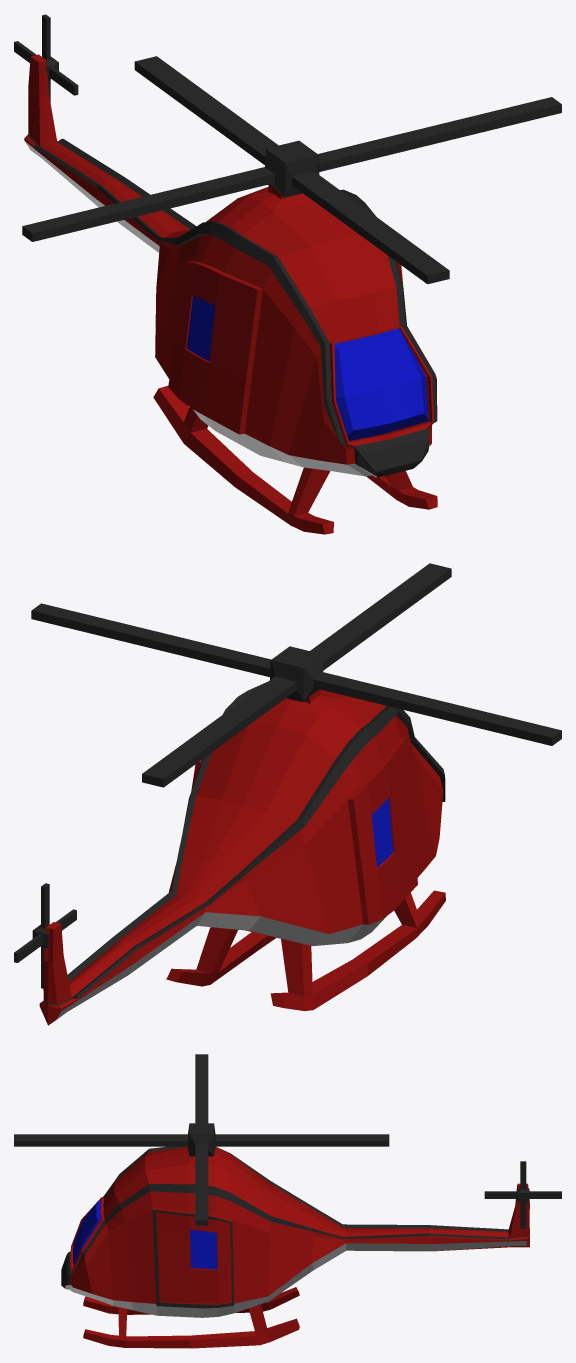
The model's file is Helico01.obj.
The picture shows the model from 3 angles, top to bottom: view 1: azimuth 30°, elevation 25°; view 2: azimuth 150°, elevation 25°; view 3: azimuth 270°, elevation 25°; orthographic projection. The views are drawn at different scales.
Visible parts, largest first — view 1: Helico_Cube, Helice_Cube.003, Portes_Cube.005, Helice.001_Cube.004; view 2: Helico_Cube, Helice_Cube.003, Portes_Cube.005, Helice.001_Cube.004; view 3: Helico_Cube, Portes_Cube.005, Helice_Cube.003, Helice.001_Cube.004.
Boxes of the visible parts, x1,y1,x2,y2 form: Helico_Cube: (24, 54, 437, 534); Helice_Cube.003: (22, 56, 561, 284); Portes_Cube.005: (168, 261, 403, 434); Helice.001_Cube.004: (14, 14, 78, 102); Helico_Cube: (39, 682, 445, 1025); Helice_Cube.003: (31, 563, 561, 787); Portes_Cube.005: (191, 737, 417, 924); Helice.001_Cube.004: (14, 883, 76, 988); Helico_Cube: (61, 1146, 529, 1348); Portes_Cube.005: (152, 1207, 234, 1308); Helice_Cube.003: (14, 1054, 389, 1225); Helice.001_Cube.004: (484, 1161, 561, 1228).
Size of the model in its own units: 8.23 by 4.68 by 11.5.
